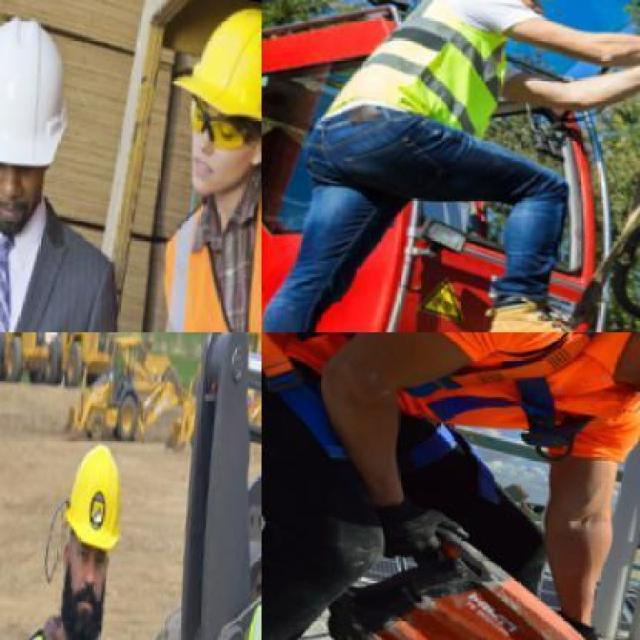Vest: (277, 332, 638, 457), (320, 0, 525, 148), (111, 146, 260, 331)
